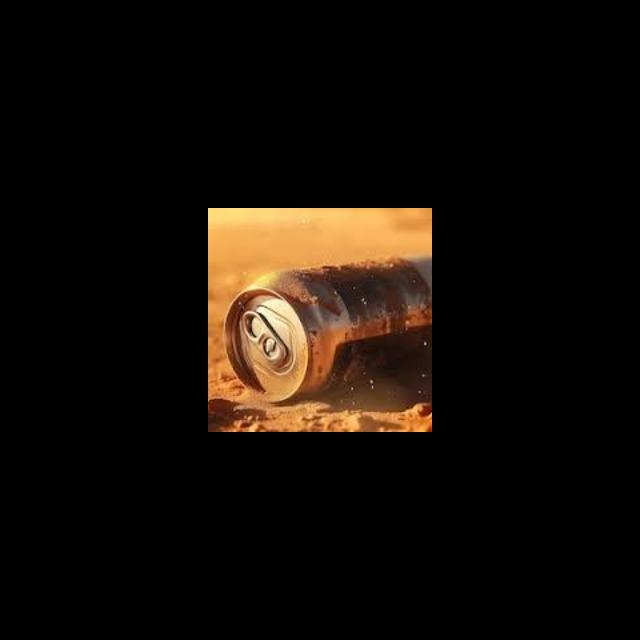metal: (220, 254, 432, 403)
